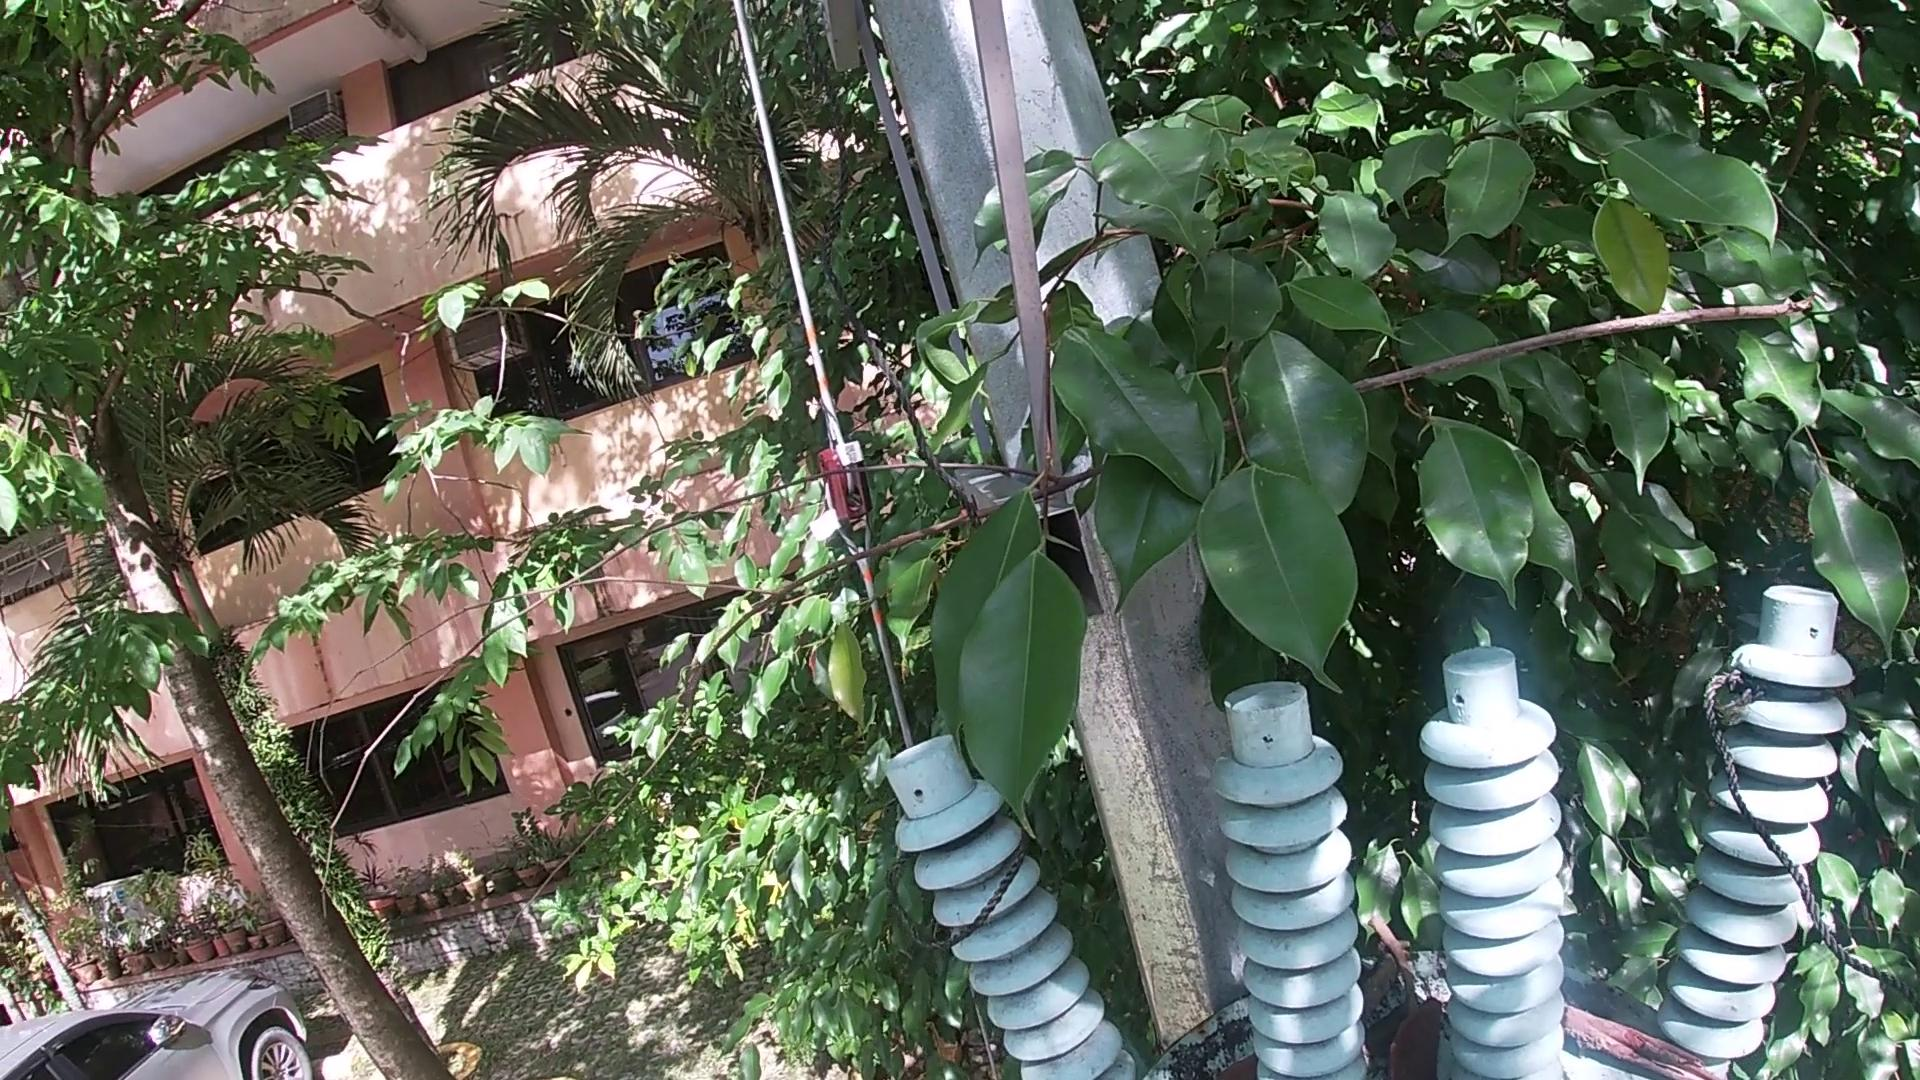mahogany fruit: (1382, 984, 1453, 1077)
tree branch: (299, 294, 1836, 968), (1561, 1004, 1727, 1077), (1358, 942, 1410, 1017), (1377, 913, 1414, 1011)
